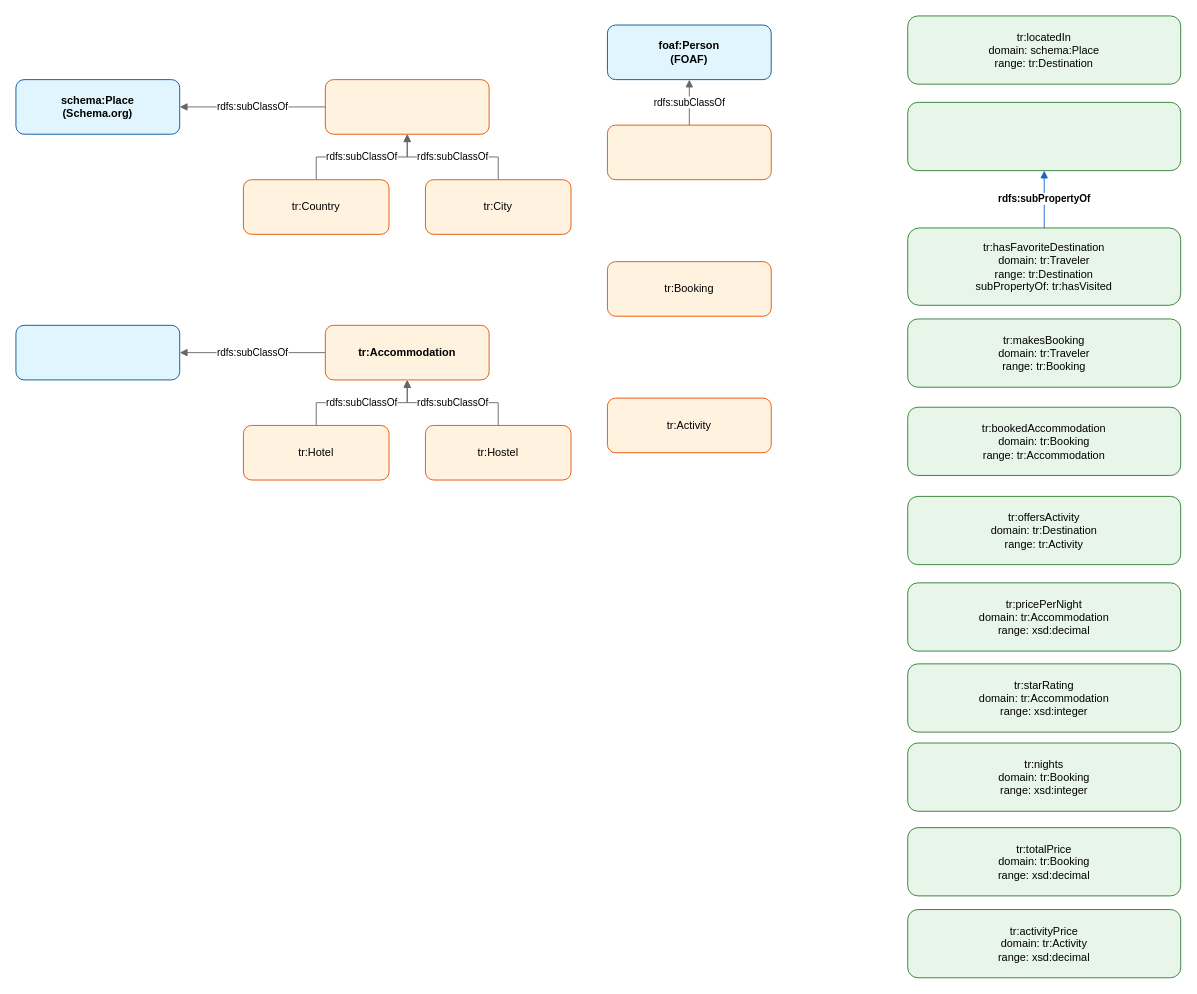
Image size: 1197x994. Some labels were removed from this diagram. The shapes that lost their labels are listed below. From the top down, each one's centre as x and y in pixels, then its label:
At (406,106): "tr:Destination".
At (689,152): "tr:Traveler".
At (1044,136): "tr:hasVisited domain: tr:Traveler range: tr:Destination".
At (97,352): "schema:LodgingBusiness (Schema.org)".
